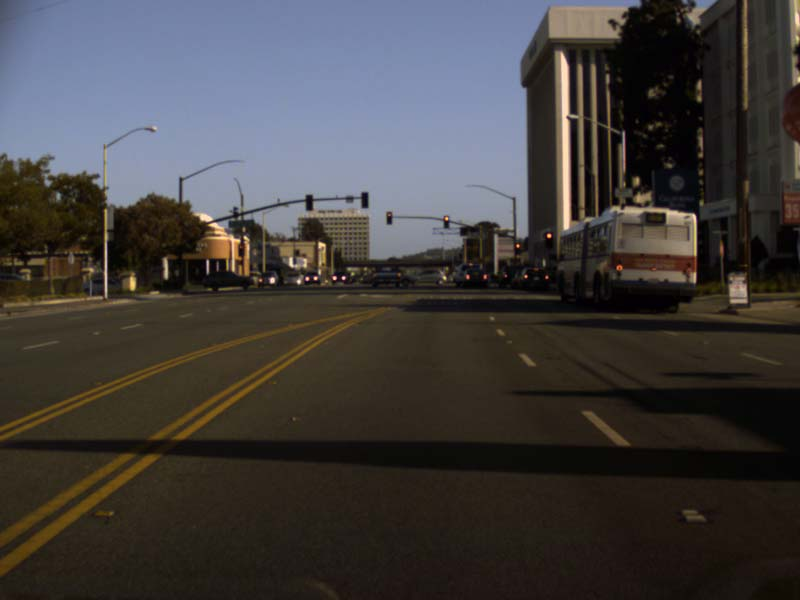Red: (545, 231, 553, 247), (386, 210, 392, 224), (514, 241, 520, 253), (443, 214, 448, 228)
